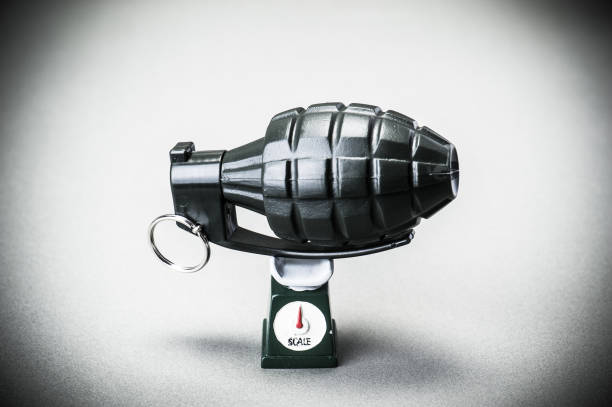e1: (148, 103, 459, 275)
